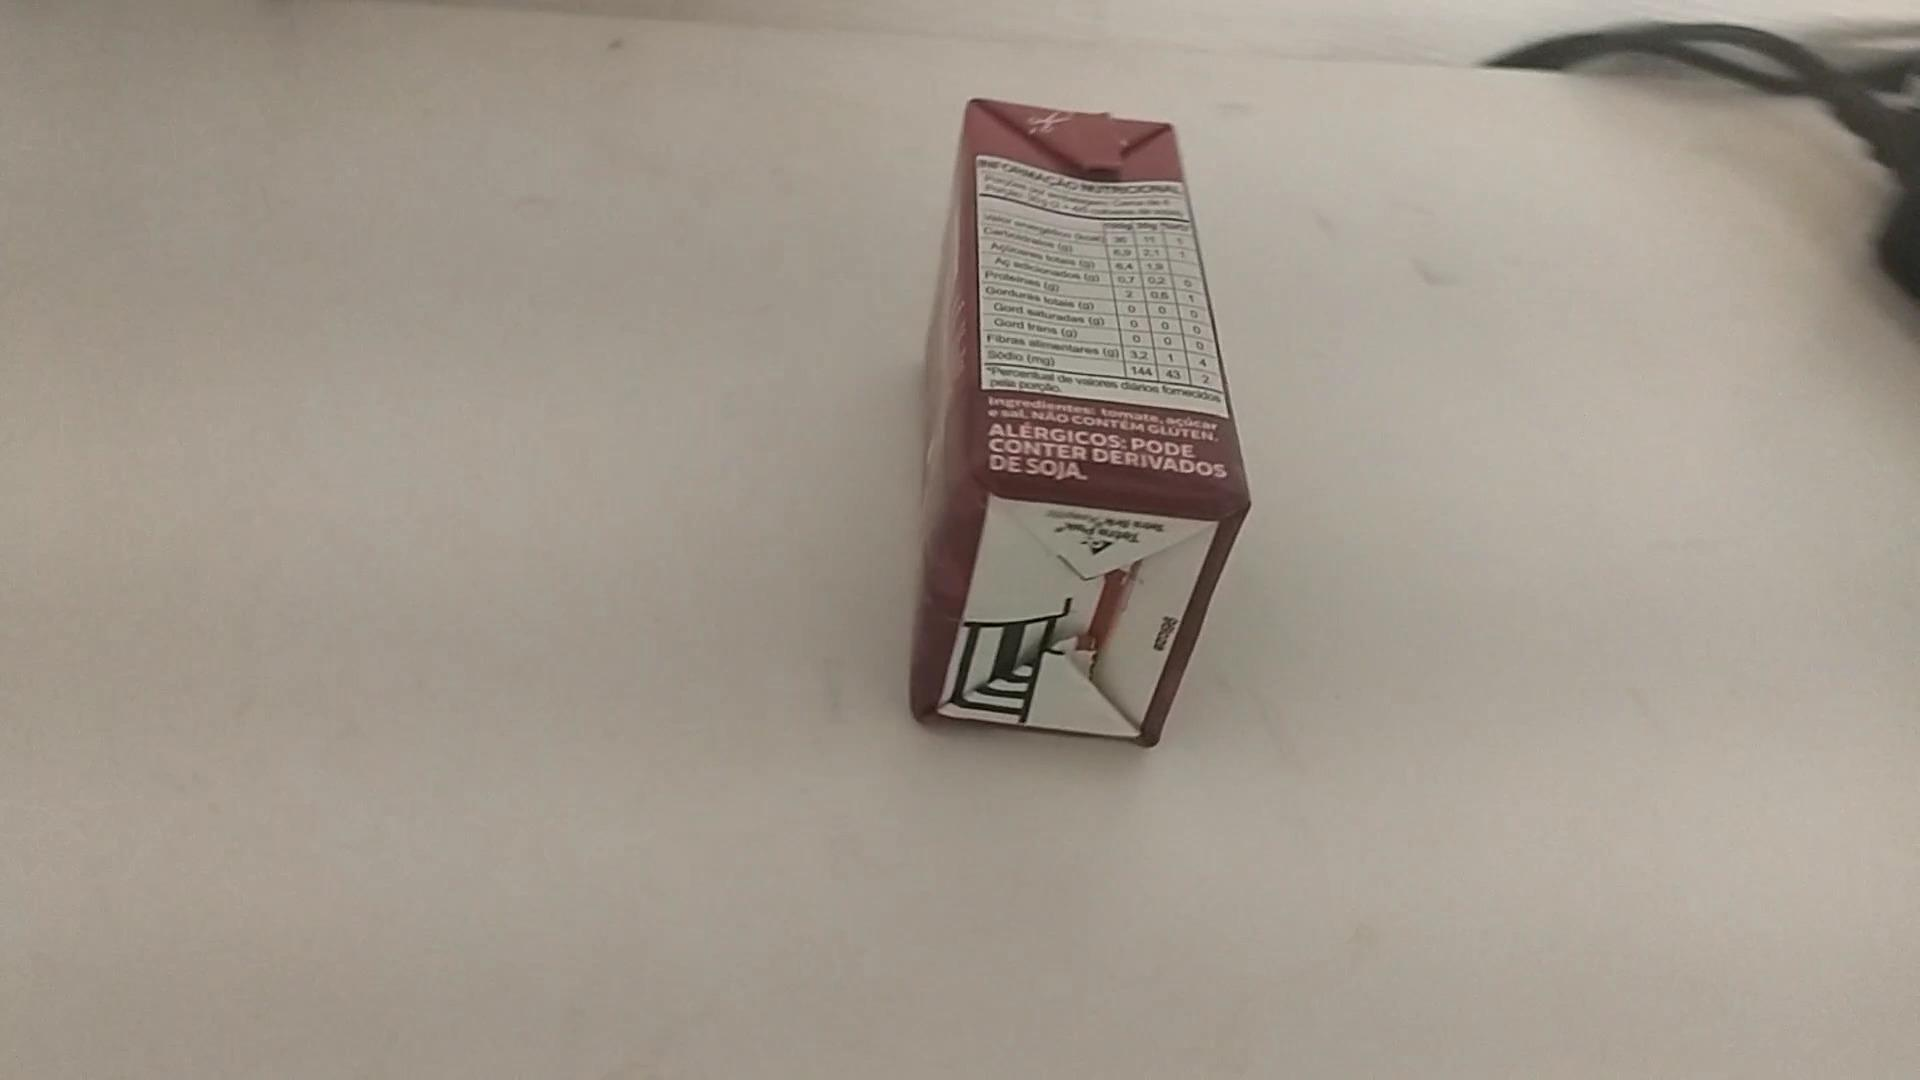tomate: (910, 102, 1254, 754)
